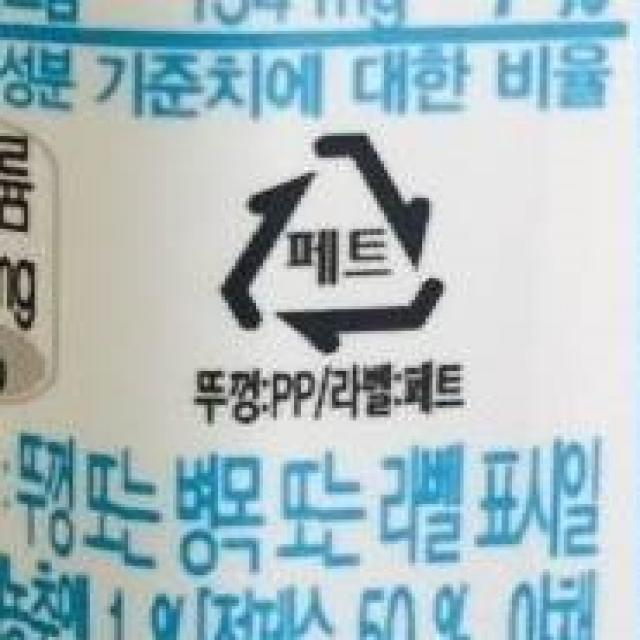PET: (211, 125, 450, 358)
